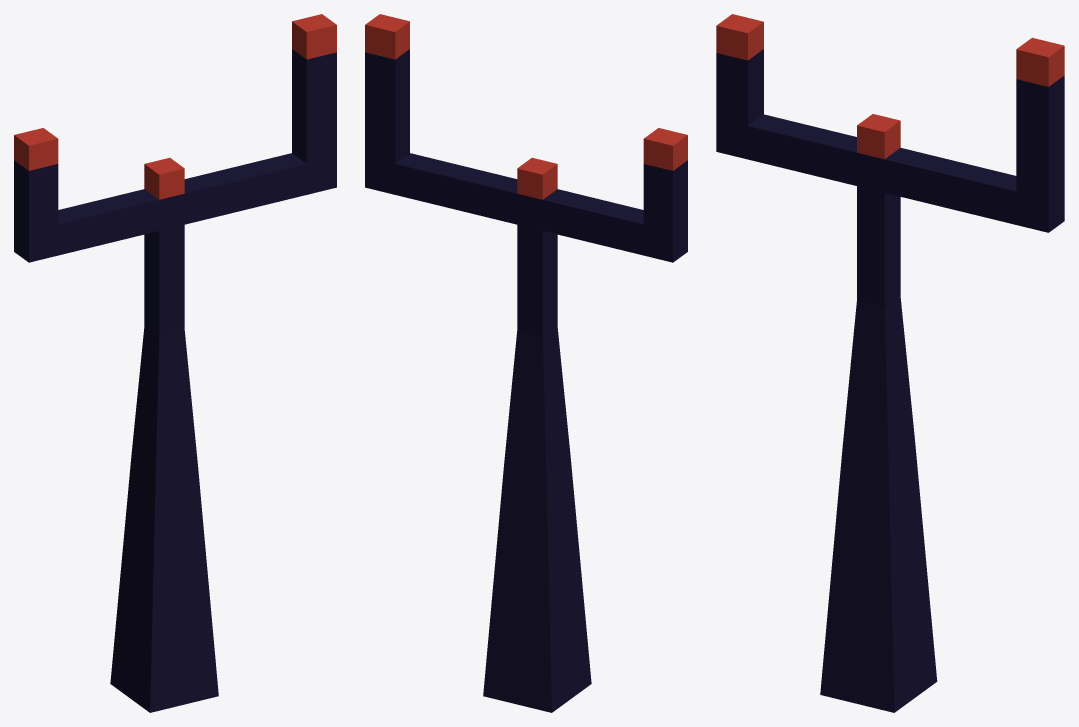
File: Anten2.fbx
3 views of the same model, side by side, from view 1: azimuth 30°, elevation 25°; view 2: azimuth 150°, elevation 25°; view 3: azimuth 330°, elevation 25° (orthographic). The views are drawn at different scales.
Parts seen in each view (by area): view 1: Anten2; view 2: Anten2; view 3: Anten2.
Boxes of the visible parts, box(x1,y1,x2,y2) form: Anten2: box(14, 14, 336, 712); Anten2: box(365, 14, 687, 712); Anten2: box(716, 14, 1064, 712).
Size of the model in its own units: 24.34 by 47.62 by 5.44.
